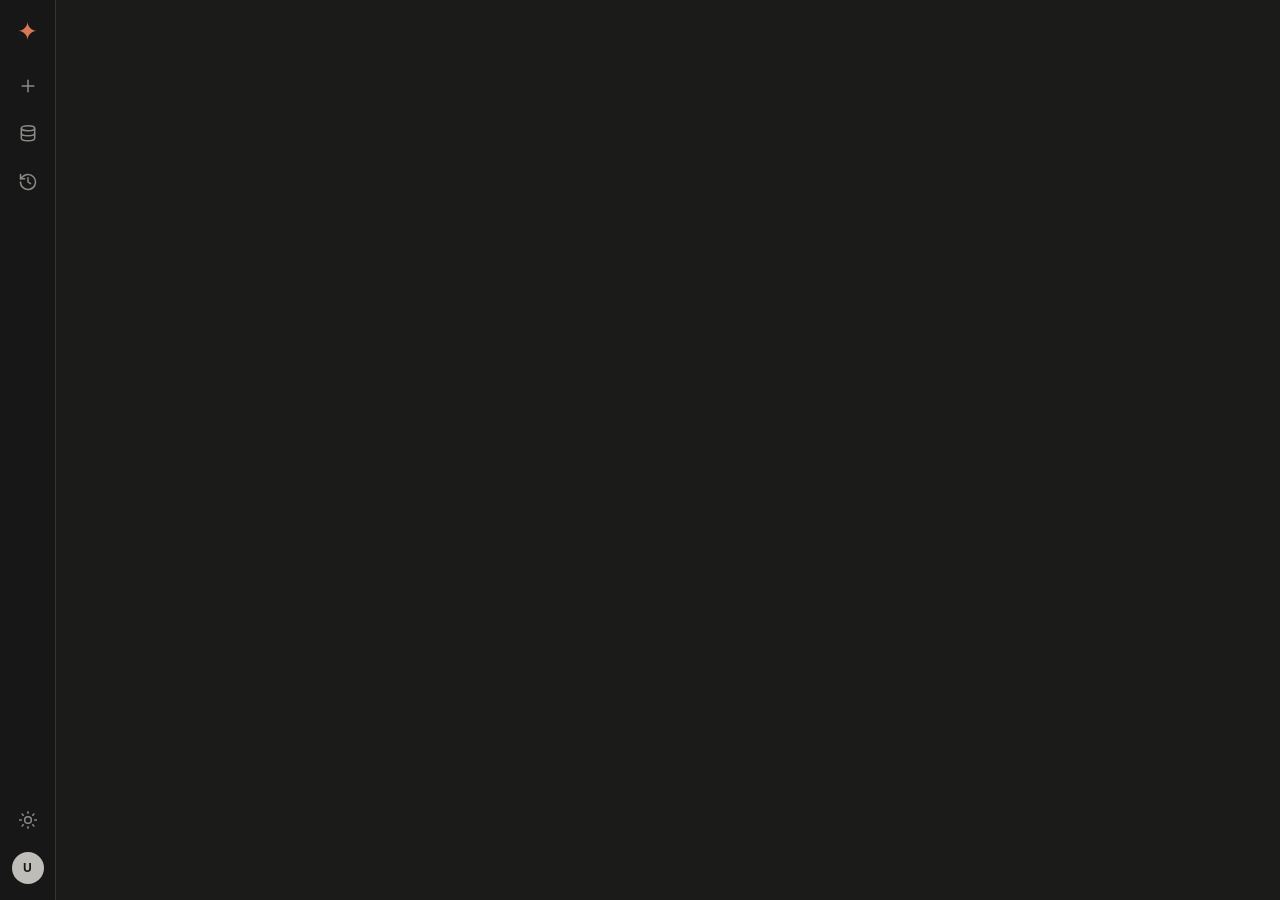
it: AppSidebar › focuses the database search and closes the drawer with Escape
The width and height of the screenshot is (1280, 900).
Click the button named "打开数据库".
click(28, 134)  # box left=8, top=114, right=48, bottom=154
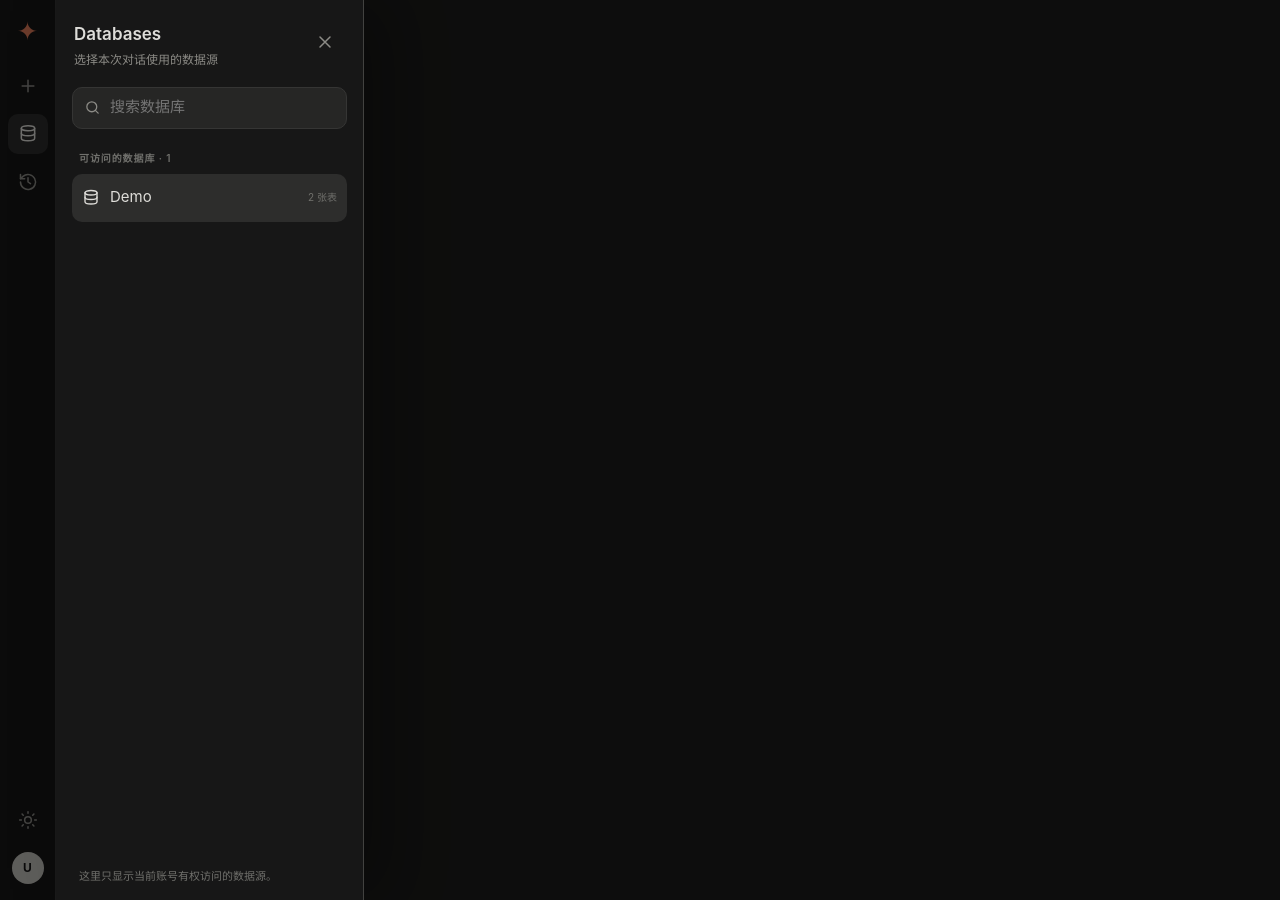
Press Shift+Tab
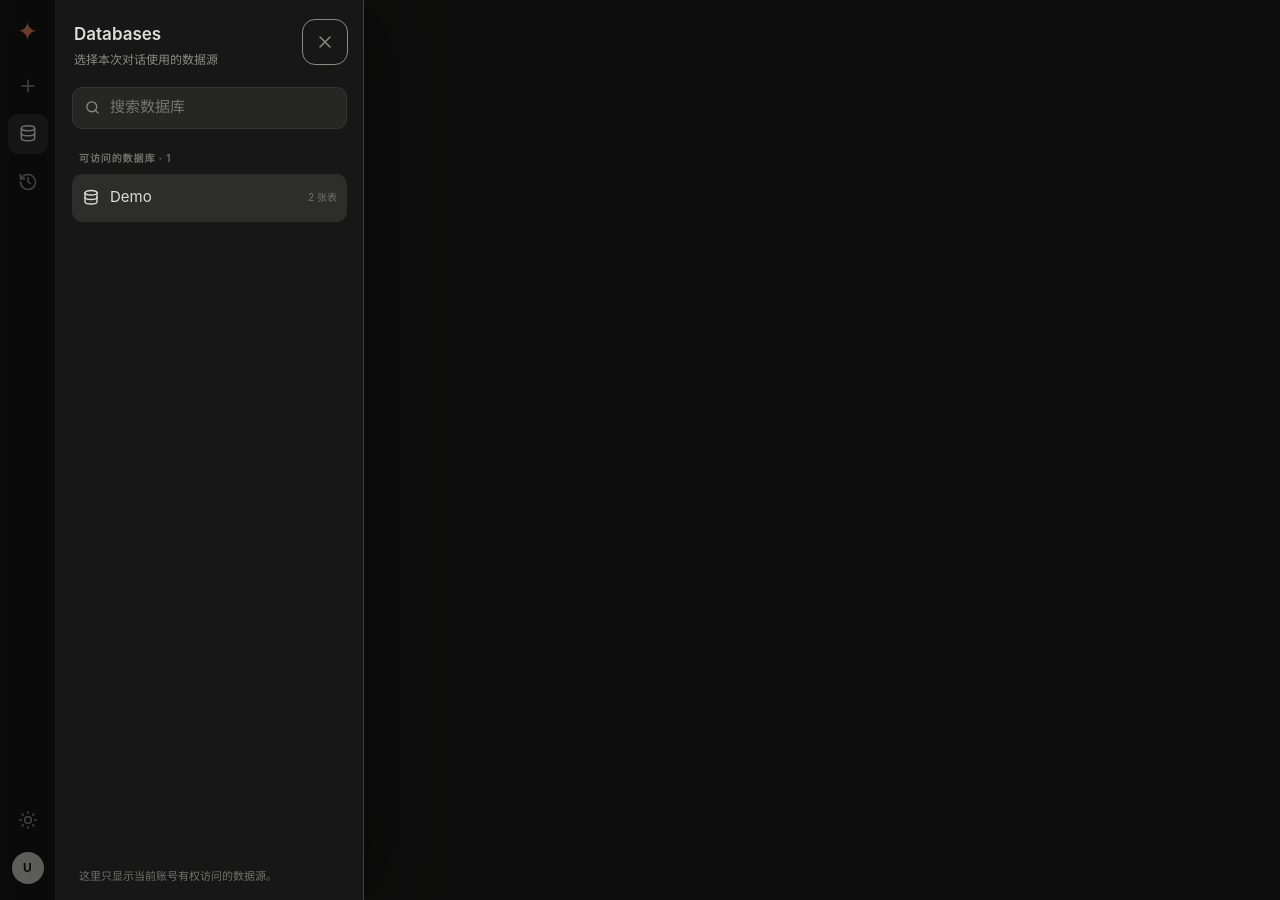
Press Shift+Tab
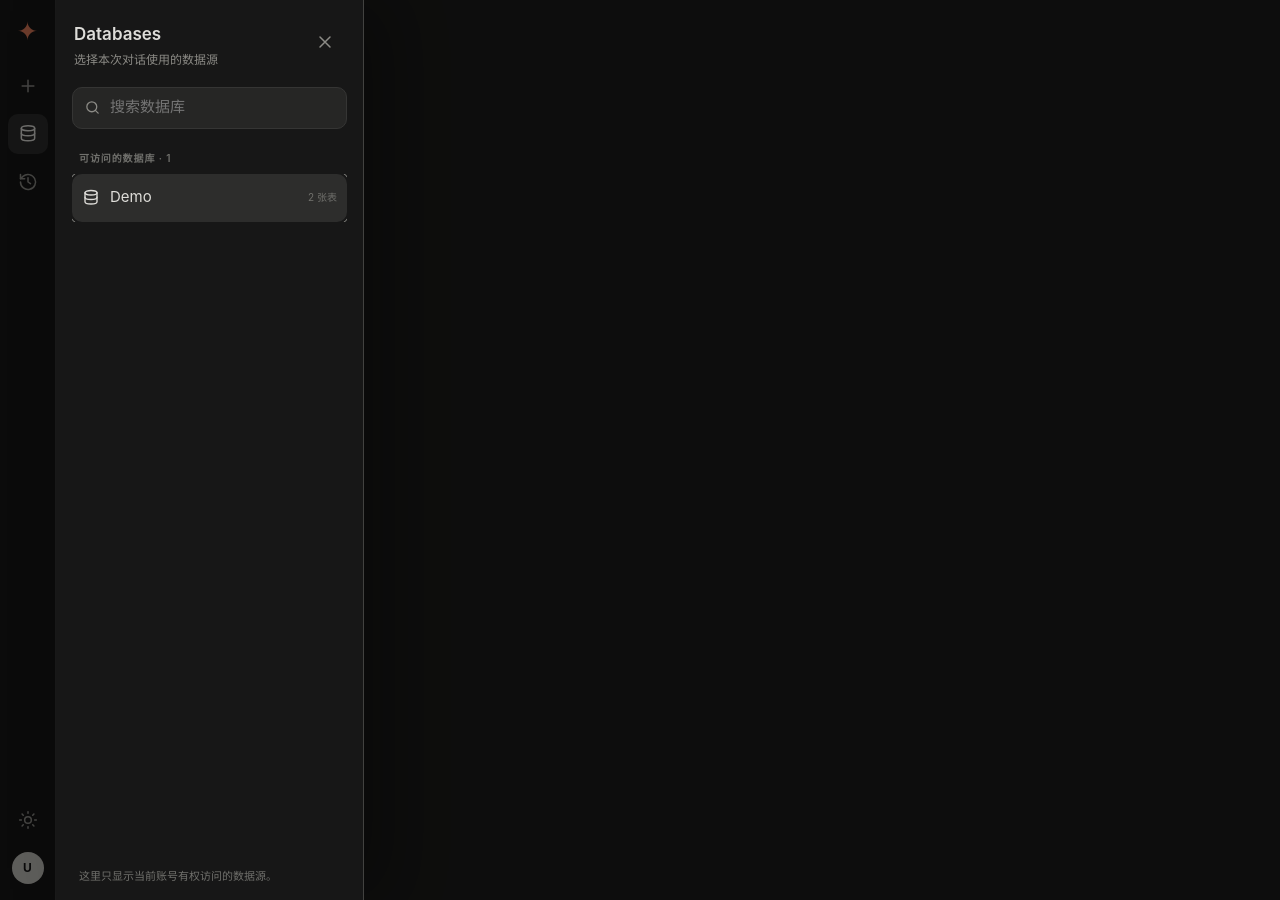
Press Escape
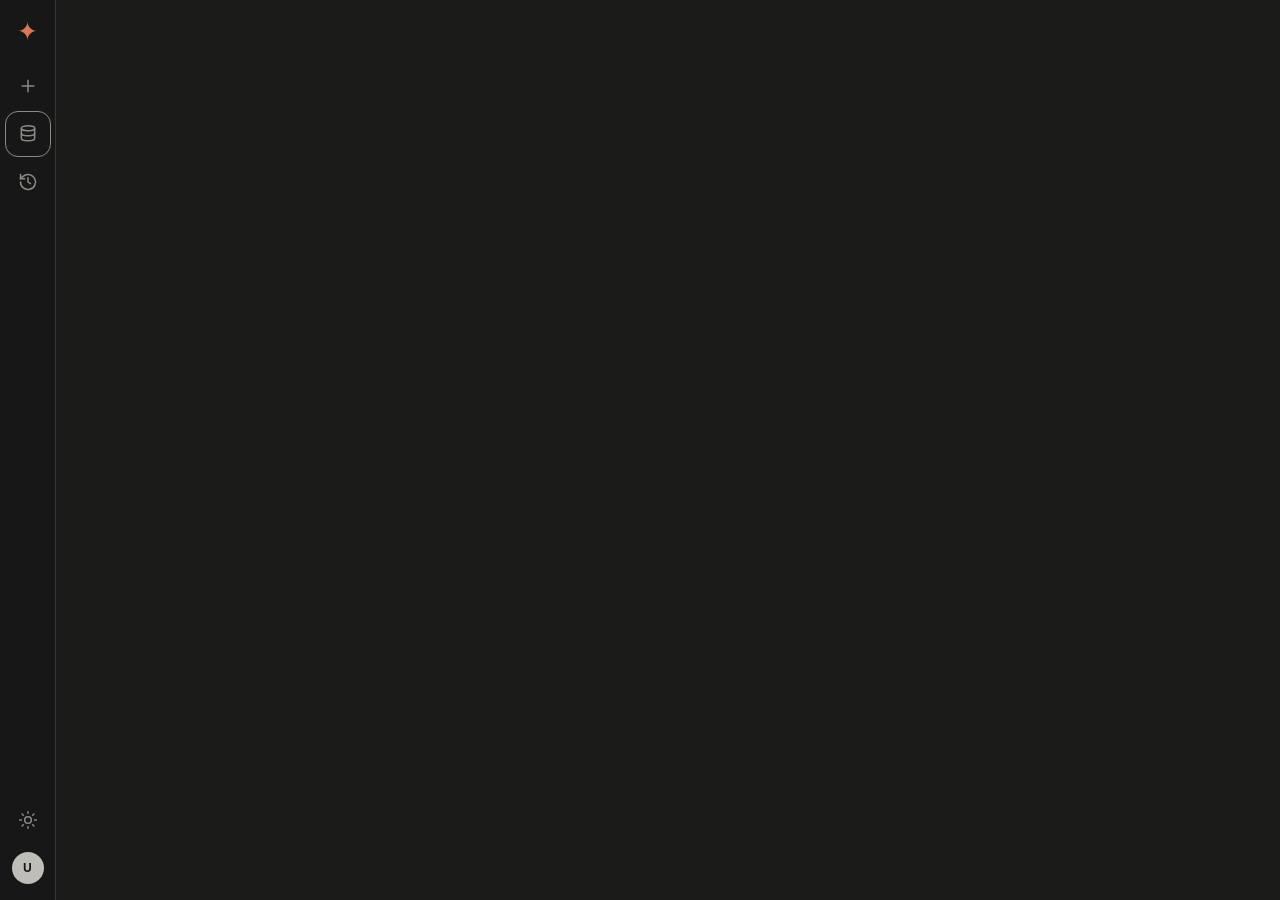
Expected: the text "数据库" is gone
